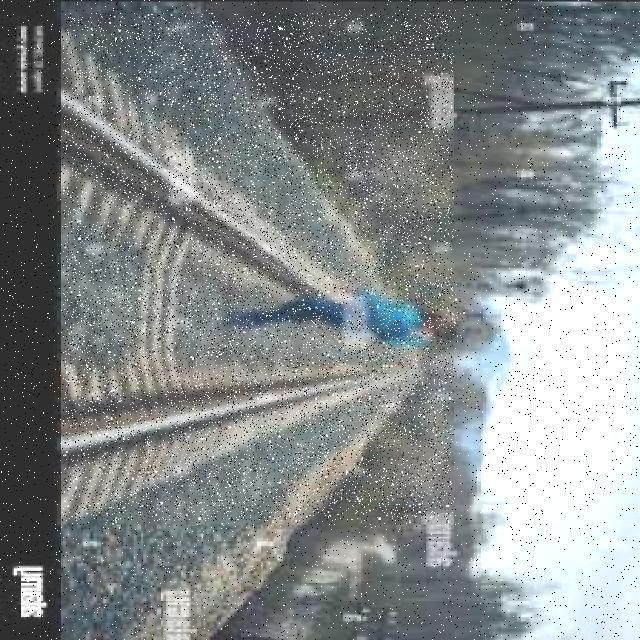danger: (212, 290, 465, 342)
rail: (63, 14, 453, 521)
